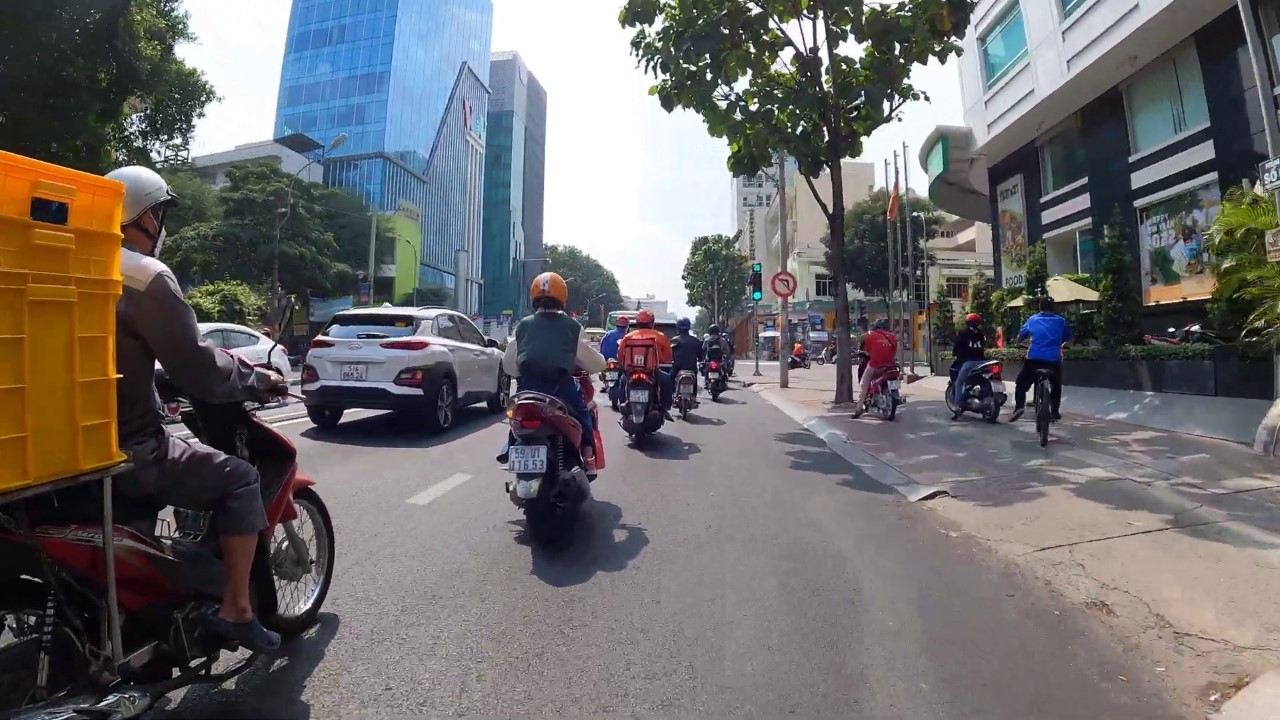cam_re_trai: (771, 271, 798, 298)
